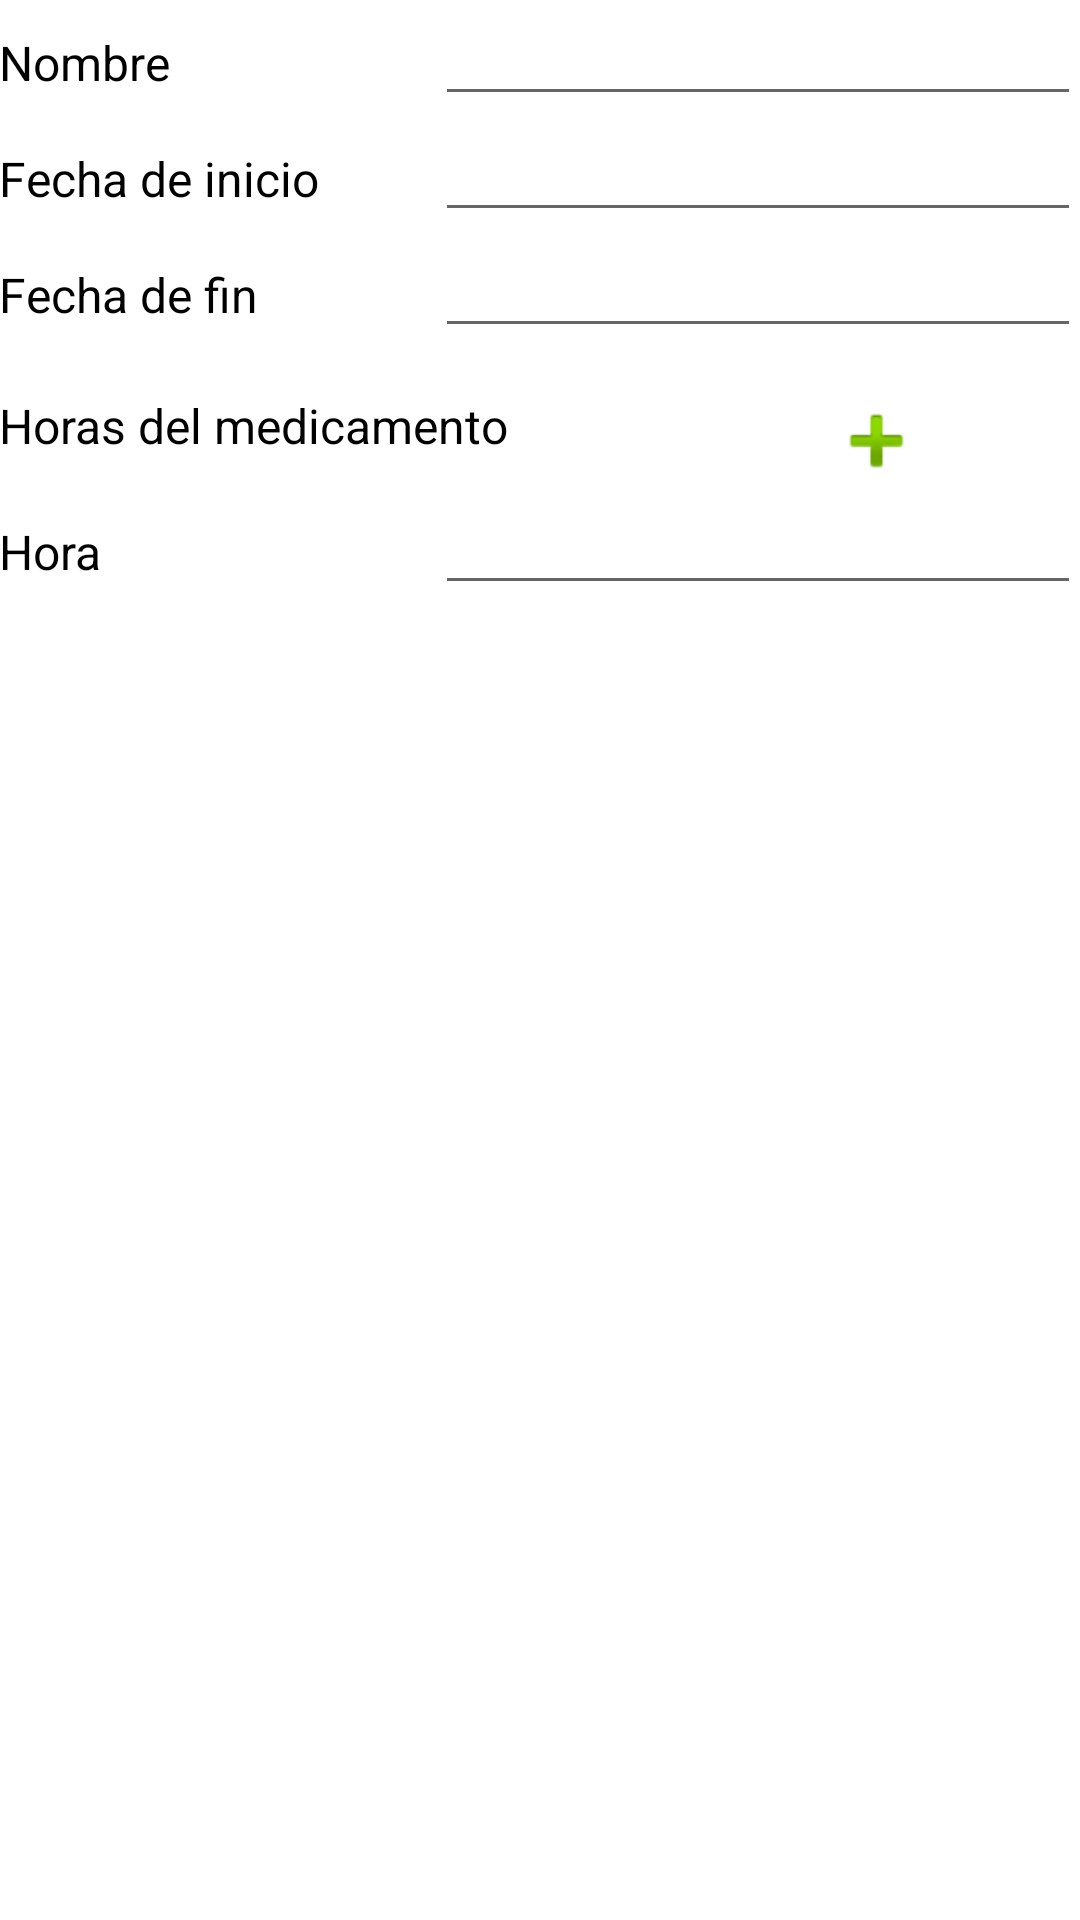

Icon bounding boxes for this 1080px x 1920px phone screenshot, format rect(x1, y1, x2, y2):
add: rect(849, 414, 904, 468)
